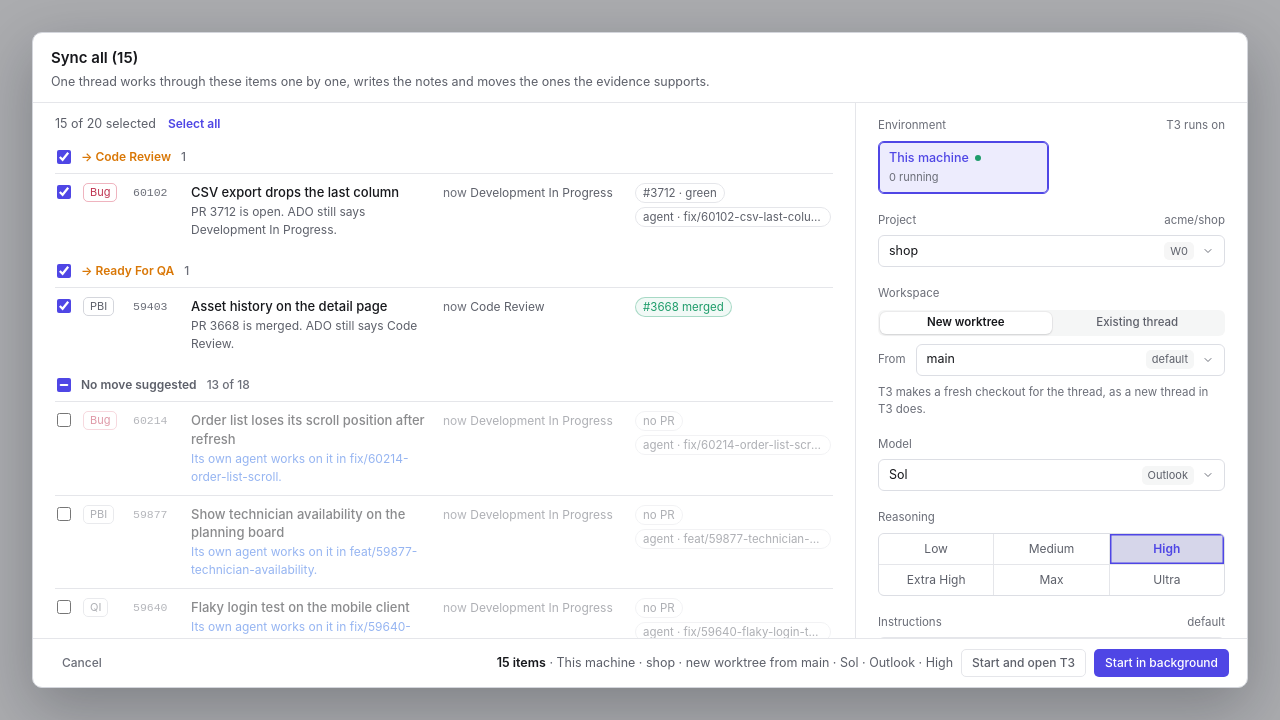
RunSheet › picks or drops a whole group with its checkbox
Expected: the button with aria-label "Model" is enabled, 878,459 -> 1225,491
Click the checkbox named "Pick every item in No move suggested" at x=64, y=385, box 57,378 -> 71,392
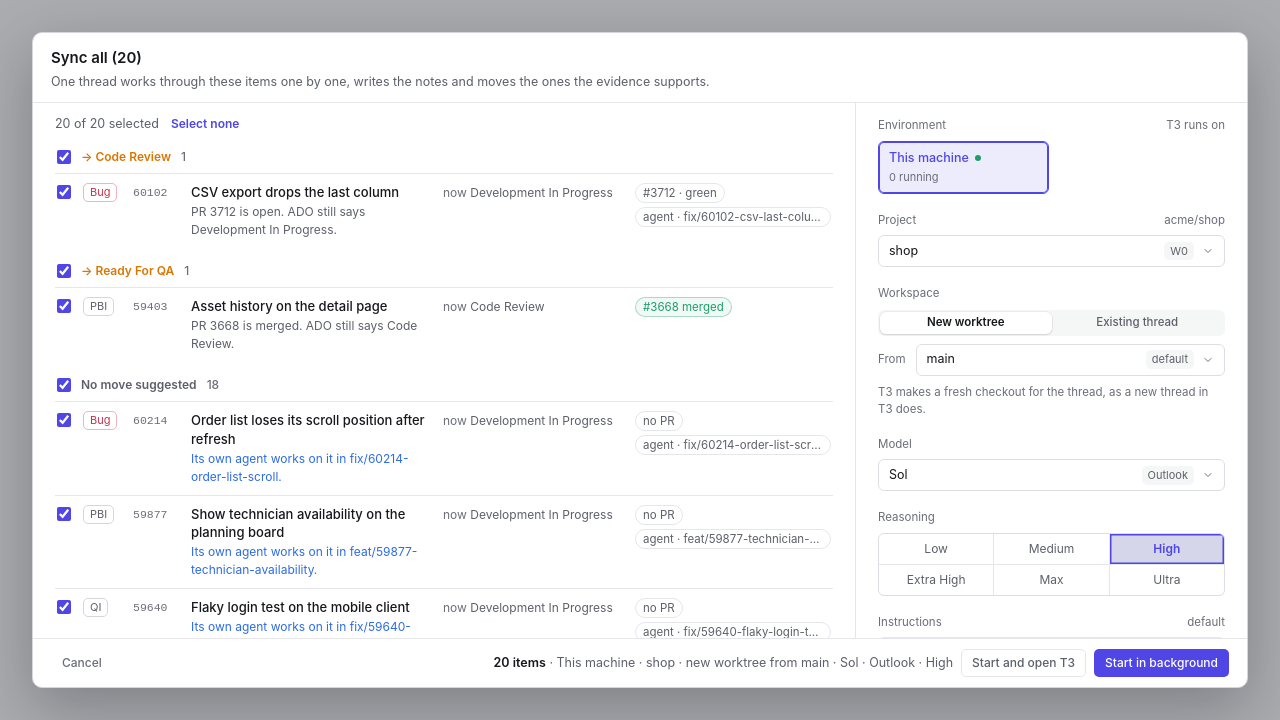
Click the checkbox named "Pick every item in No move suggested" at x=64, y=385, box 57,378 -> 71,392
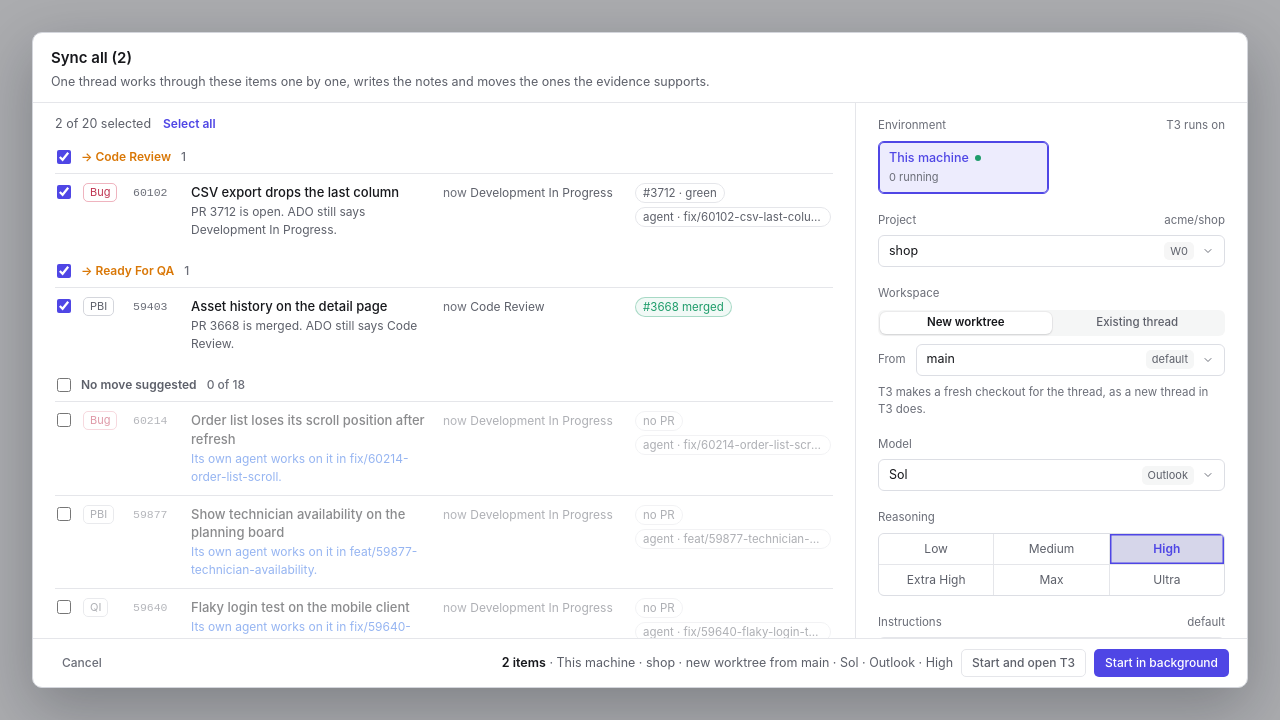
Result: the heading "2 of 20 selected" is shown at 55,115 -> 151,134
